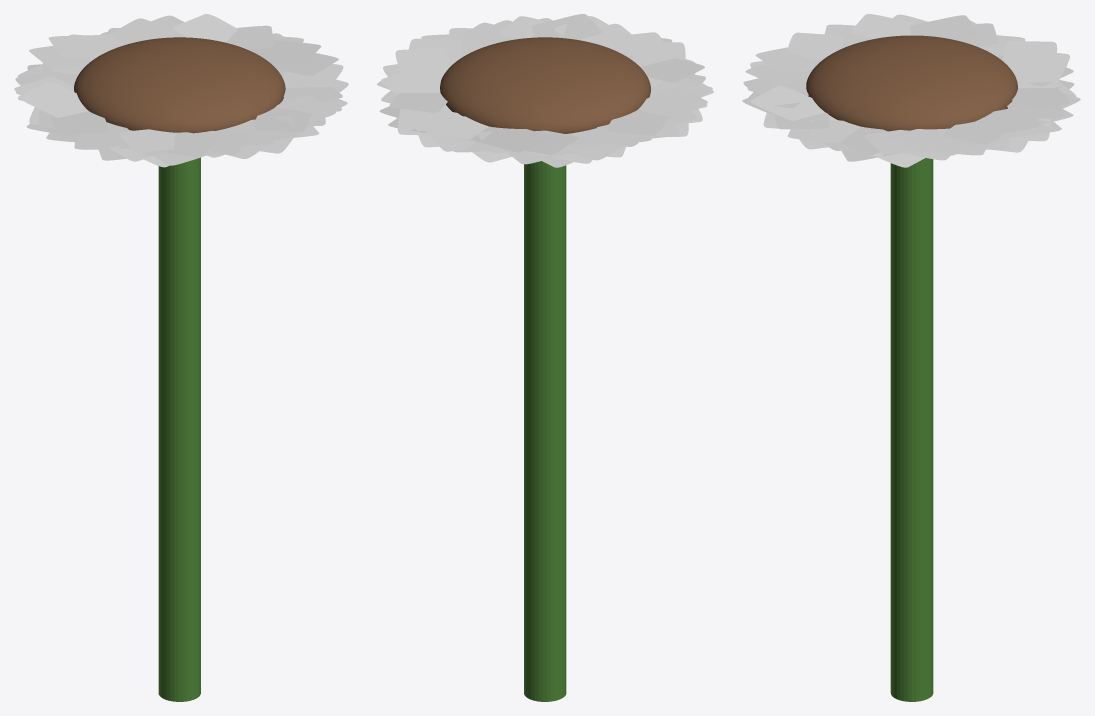
3 renders of one model, left to right at view 1: azimuth 30°, elevation 25°; view 2: azimuth 150°, elevation 25°; view 3: azimuth 270°, elevation 25°, orthographic.
Parts seen in each view (by area): view 1: object 31, object 1, Plane.016, Plane.006, Plane.021, Plane.025, Plane.003, Plane.001, Plane.017, Plane.013, Plane.022, Plane.026 (+10 smaller); view 2: object 31, object 1, Plane.013, Plane.003, Plane.006, Plane.005, Plane.017, Plane.009, Plane.026, Plane.016, Plane.014, Plane.002 (+12 smaller); view 3: object 31, object 1, Plane.006, Plane.026, Plane.001, Plane.021, Plane.003, Plane.016, Plane.002, Plane.013, Plane, Plane.009 (+8 smaller).
Boxes of the visible parts, x1,y1,x2,y2 form: object 31: (158,157,200,701); object 1: (74,37,285,133); Plane.016: (18,82,168,167); Plane.006: (48,34,124,57); Plane.021: (118,126,319,152); Plane.025: (260,64,343,153); Plane.003: (248,40,321,64); Plane.001: (173,14,238,42); Plane.017: (26,123,221,156); Plane.013: (27,64,109,135); Plane.022: (154,96,335,165); Plane.026: (253,100,311,132); object 31: (524,161,566,701); object 1: (440,37,650,133); Plane.013: (542,87,707,167); Plane.003: (395,47,451,147); Plane.006: (379,106,551,152); Plane.005: (381,69,511,162); Plane.017: (632,42,688,136); Plane.009: (426,113,625,157); Plane.026: (532,14,602,39); Plane.016: (607,73,694,135); Plane.014: (571,79,712,160); Plane.002: (397,38,462,135); object 31: (890,158,933,701); object 1: (806,35,1017,131); Plane.006: (995,49,1069,152); Plane.026: (750,86,925,167); Plane.001: (841,106,1040,161); Plane.021: (763,32,843,128); Plane.003: (889,109,1073,152); Plane.016: (910,15,979,40); Plane.002: (864,121,1061,154); Plane.013: (850,14,917,39); Plane: (809,119,1009,149); Plane.009: (1000,35,1070,109).
Size of the model in its own units: 0.6358 by 1.31 by 0.6344.
